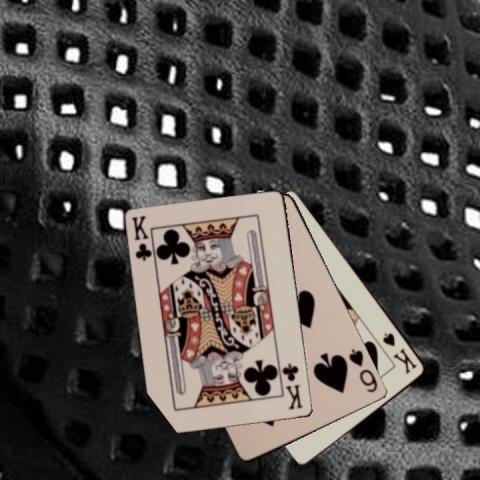6s: (346, 346, 379, 395)
Kc: (280, 361, 304, 411), (130, 213, 154, 262)
Ks: (380, 329, 419, 375)
